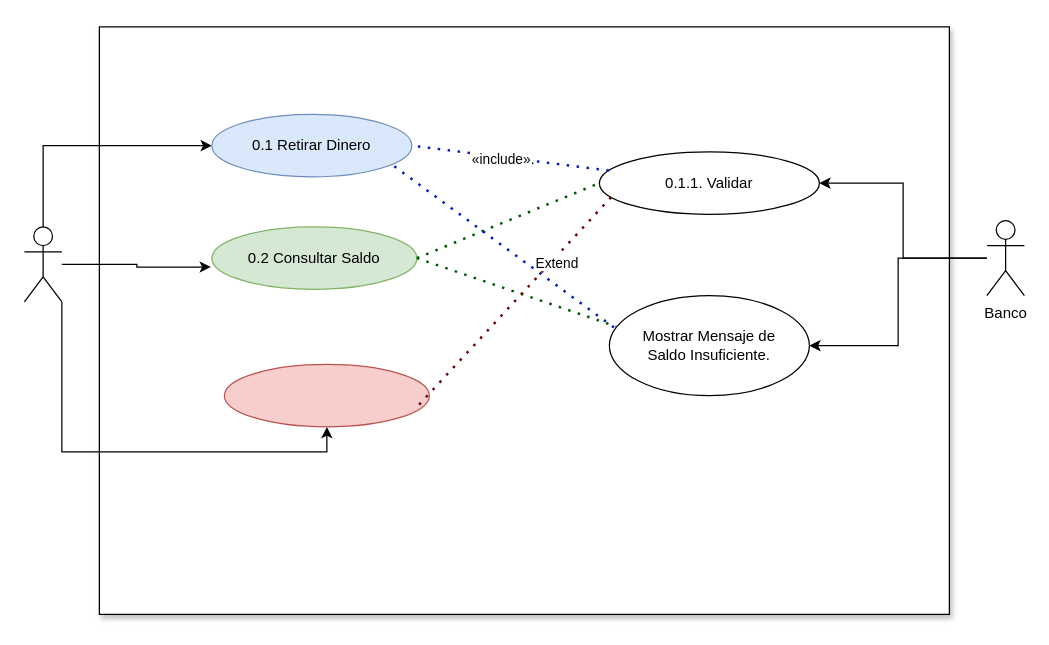
Some shapes in this 1049 by 645 pixel diagram are drawn without their labels. Each missing label, with the centre of its shape:
"0.3 Depositar Dinero" belongs at point 326,395.
"Ciente" belongs at point 42,264.
